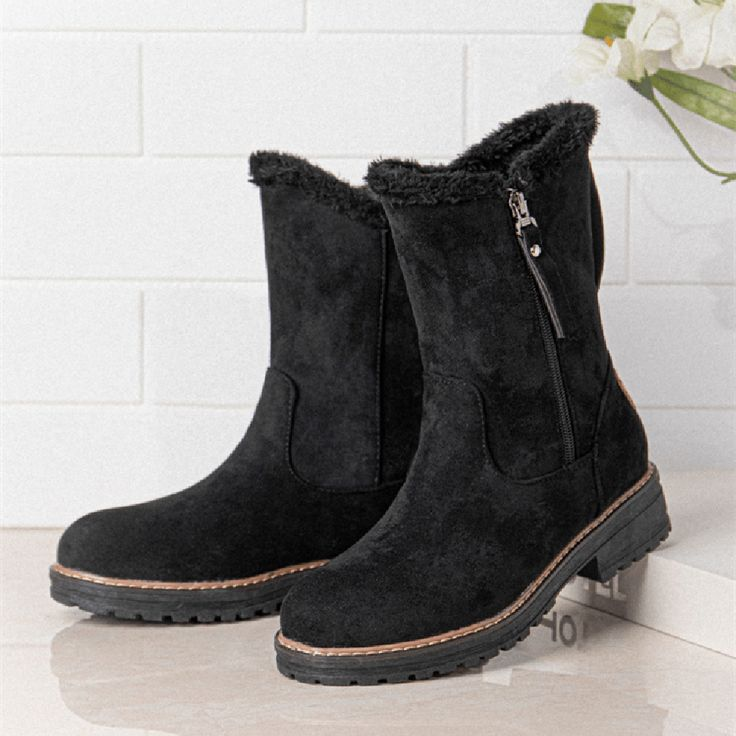gamuza: (54, 101, 648, 649)
